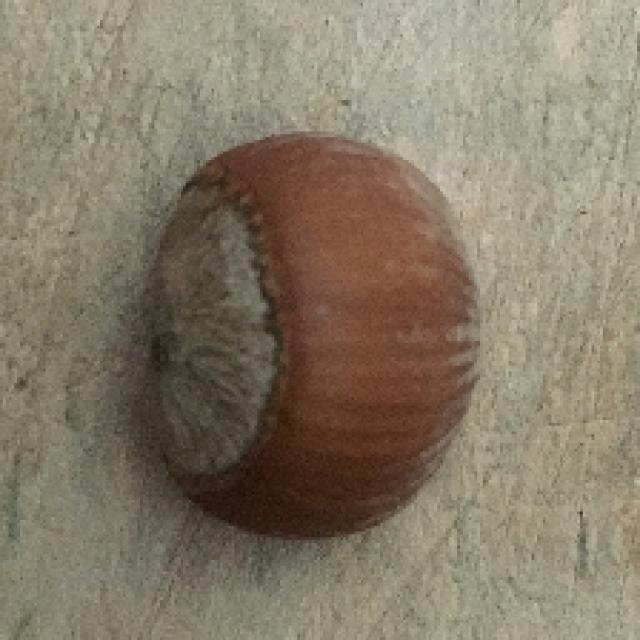qualityHazelnut: (145, 128, 480, 542)
